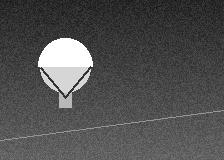helmet: (38, 38, 92, 97)
